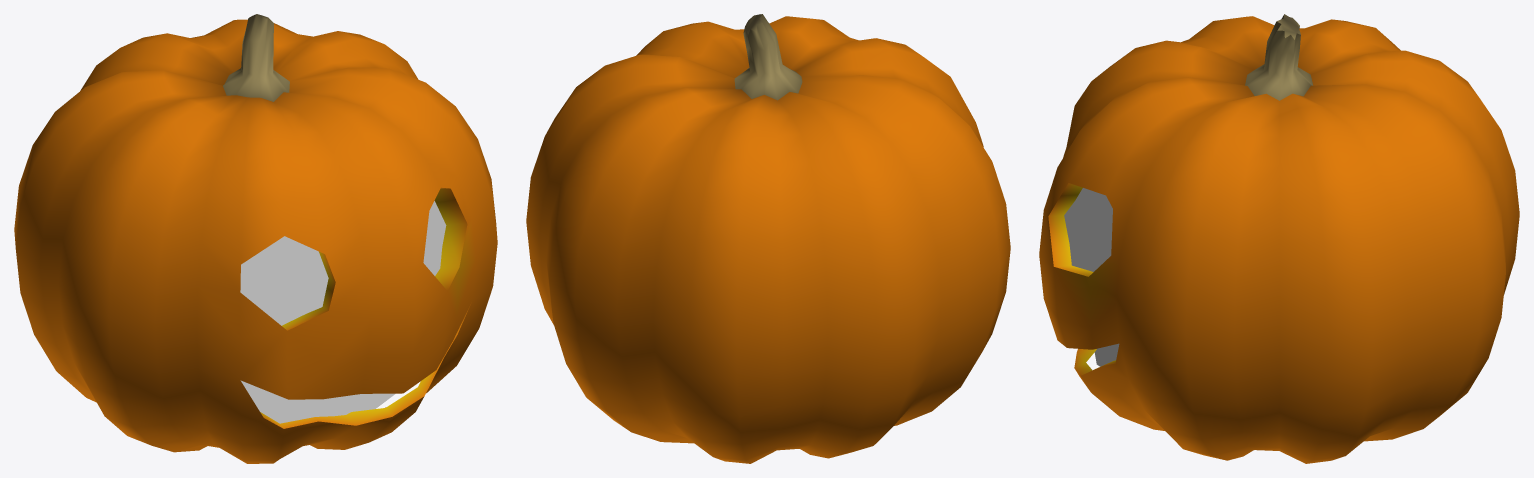
File: Pumpkin.glb
3 views of the same model, side by side, from view 1: azimuth 30°, elevation 25°; view 2: azimuth 150°, elevation 25°; view 3: azimuth 270°, elevation 25° (orthographic).
Visible parts, largest first — view 1: Pumpkin, PumpkinLight; view 2: Pumpkin; view 3: Pumpkin, PumpkinLight.
Part boxes in pixels (x1=…): Pumpkin: x1=14, y1=14, x2=497, y2=463; PumpkinLight: x1=240, y1=201, x2=446, y2=423; Pumpkin: x1=526, y1=14, x2=1010, y2=463; Pumpkin: x1=1039, y1=14, x2=1519, y2=463; PumpkinLight: x1=1064, y1=188, x2=1119, y2=366.
Size of the model in its own units: 0.3799 by 0.3552 by 0.3799.
